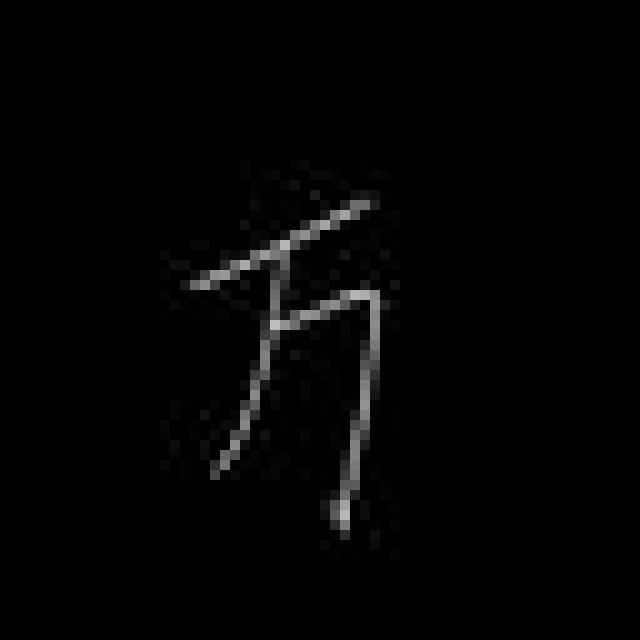10000 -a ten thousand-: (176, 176, 400, 544)
